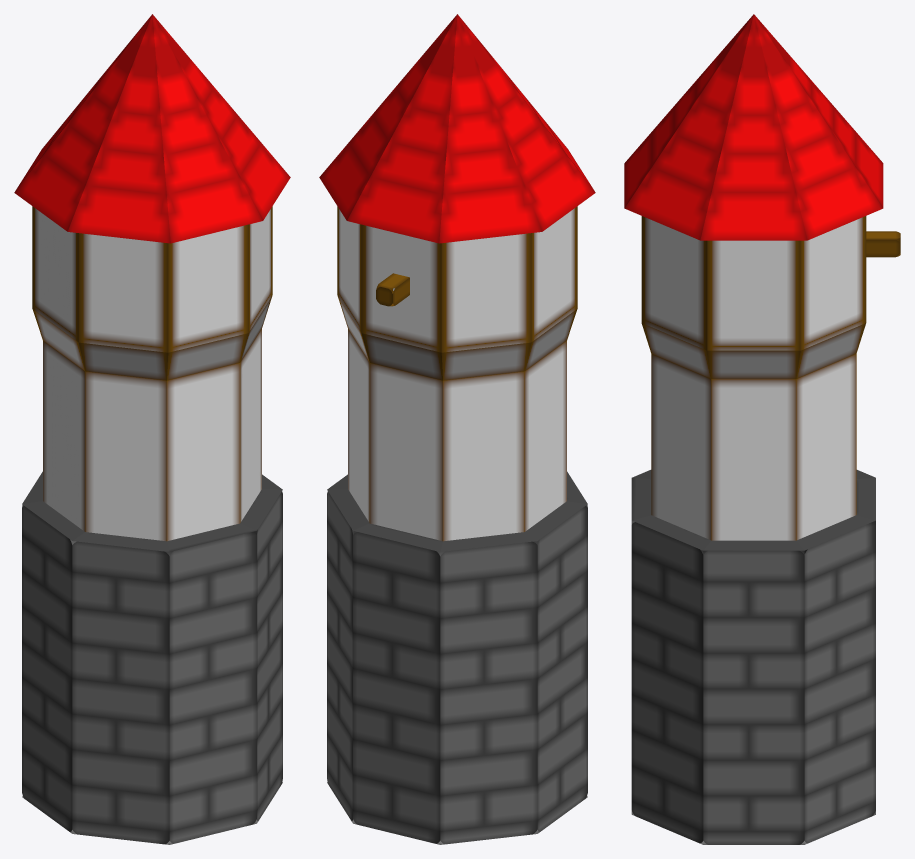
The model's file is moinho.obj.
The picture shows the model from 3 angles, left to right: view 1: azimuth 30°, elevation 25°; view 2: azimuth 150°, elevation 25°; view 3: azimuth 270°, elevation 25°; orthographic projection.
Visible parts, largest first — view 1: cylinder; view 2: cylinder, cube; view 3: cylinder, cube.
Part boxes in pixels (left/top/right/bottom): cylinder: left=14, top=14, right=290, bottom=844; cylinder: left=319, top=14, right=595, bottom=844; cube: left=376, top=273, right=409, bottom=306; cylinder: left=624, top=14, right=883, bottom=844; cube: left=866, top=231, right=900, bottom=257.
Bounding box in the file's own units: 1.66 × 5.5 × 1.77.
Materials: 1 (1 with a texture image).
